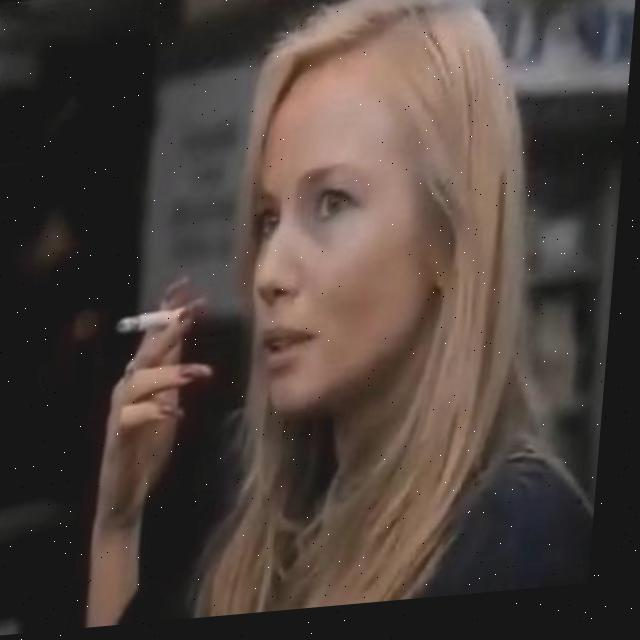cigarette: (122, 307, 191, 336)
